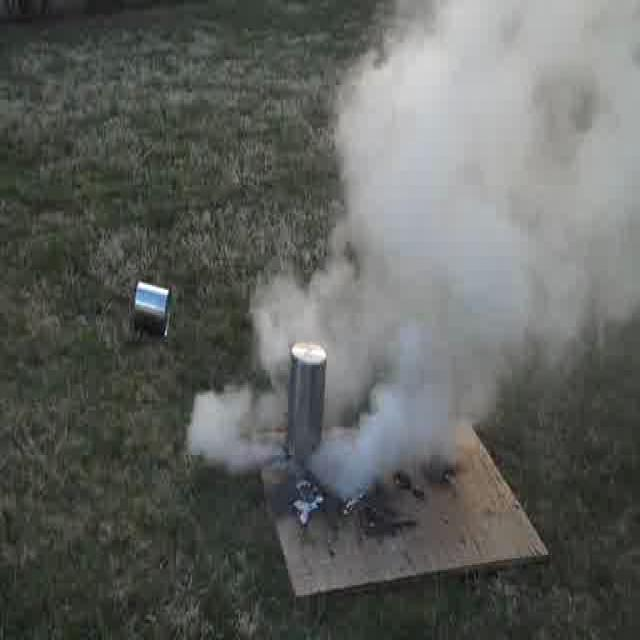Smoke: (328, 4, 640, 488), (190, 395, 278, 468)
